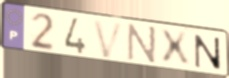2: (29, 12, 56, 53)
4: (63, 16, 89, 57)
N: (125, 22, 158, 66), (193, 33, 224, 73)
V: (91, 19, 126, 60)
X: (158, 28, 192, 68)
